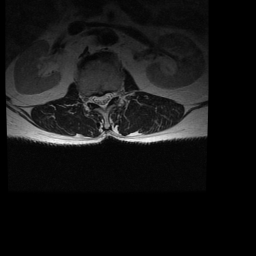CCS_normal: (98, 89, 105, 113)
LFS_normal: (112, 86, 118, 102)
LLS_normal: (105, 88, 112, 106)
RFS_normal: (85, 90, 92, 108)
RLS_normal: (92, 89, 98, 109)
